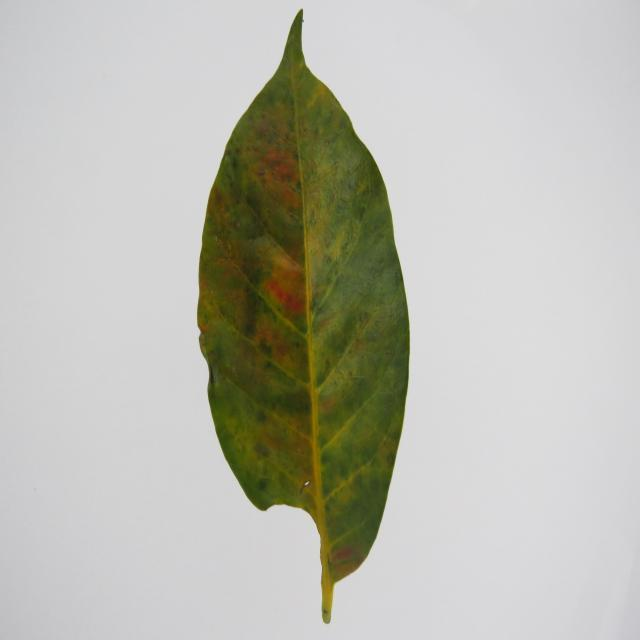DeficienciaNutricional-Fosforo: (198, 10, 409, 623)
